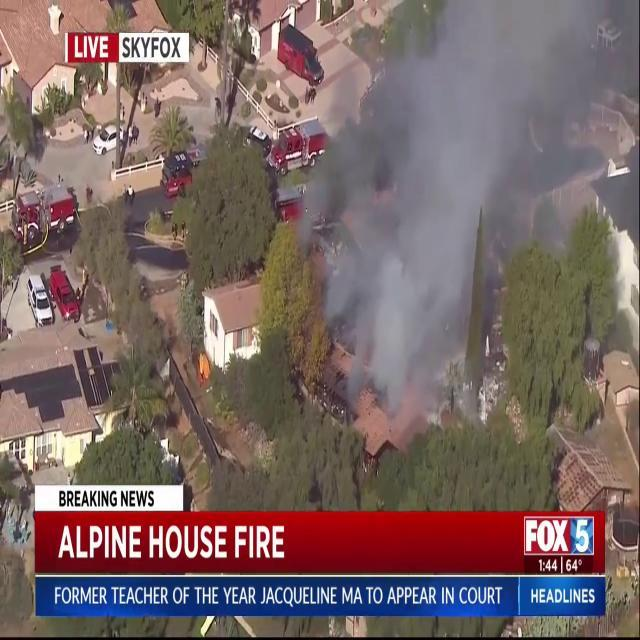Smoke: (300, 0, 592, 433)
